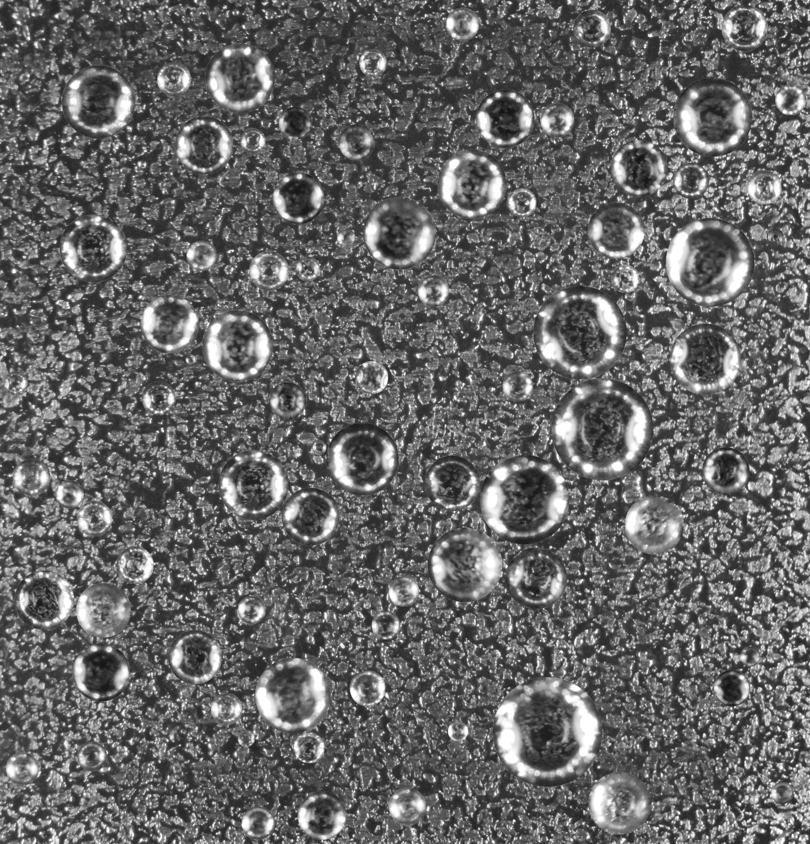Bubble: (492, 677, 602, 786), (551, 378, 653, 480), (533, 286, 626, 379), (480, 455, 569, 544), (666, 218, 754, 306), (673, 77, 752, 156), (427, 527, 502, 602), (255, 658, 330, 733), (61, 65, 134, 138), (363, 196, 435, 269), (326, 423, 398, 495), (670, 323, 741, 394), (202, 310, 273, 381), (218, 450, 288, 519), (437, 149, 506, 218), (205, 43, 274, 112), (59, 214, 127, 282), (588, 772, 650, 834), (505, 547, 567, 608), (14, 570, 73, 629), (625, 495, 683, 554), (476, 89, 534, 147), (281, 487, 339, 545), (175, 116, 233, 174), (140, 295, 198, 353), (72, 643, 129, 701), (610, 140, 667, 196), (588, 202, 644, 258), (424, 455, 480, 510), (76, 583, 130, 637), (168, 630, 221, 684), (272, 172, 324, 224), (297, 791, 346, 839), (702, 447, 749, 494), (721, 4, 767, 50), (249, 251, 288, 290), (12, 458, 50, 496), (573, 9, 610, 47), (269, 382, 306, 419), (116, 546, 153, 583), (388, 788, 425, 825), (673, 162, 709, 198), (714, 670, 750, 706), (349, 670, 385, 706), (338, 124, 374, 160), (76, 501, 112, 536), (540, 103, 574, 137), (141, 381, 175, 415), (747, 170, 781, 204), (157, 62, 190, 96), (278, 106, 311, 139), (5, 752, 38, 785), (241, 806, 274, 839), (446, 7, 479, 40), (355, 361, 388, 393), (417, 275, 449, 306), (210, 693, 242, 724), (293, 732, 324, 763), (775, 84, 806, 115), (502, 371, 533, 401), (388, 576, 419, 606), (186, 240, 216, 270), (77, 741, 106, 771), (371, 611, 400, 639), (507, 188, 536, 216), (55, 480, 83, 508), (611, 264, 639, 292), (237, 596, 265, 623), (359, 49, 386, 76), (240, 128, 265, 153), (295, 256, 319, 281), (3, 371, 27, 395), (771, 782, 793, 804), (448, 721, 468, 741), (740, 646, 760, 666), (337, 228, 355, 246), (766, 228, 783, 245), (237, 730, 254, 746), (312, 440, 326, 454), (185, 354, 195, 364)
